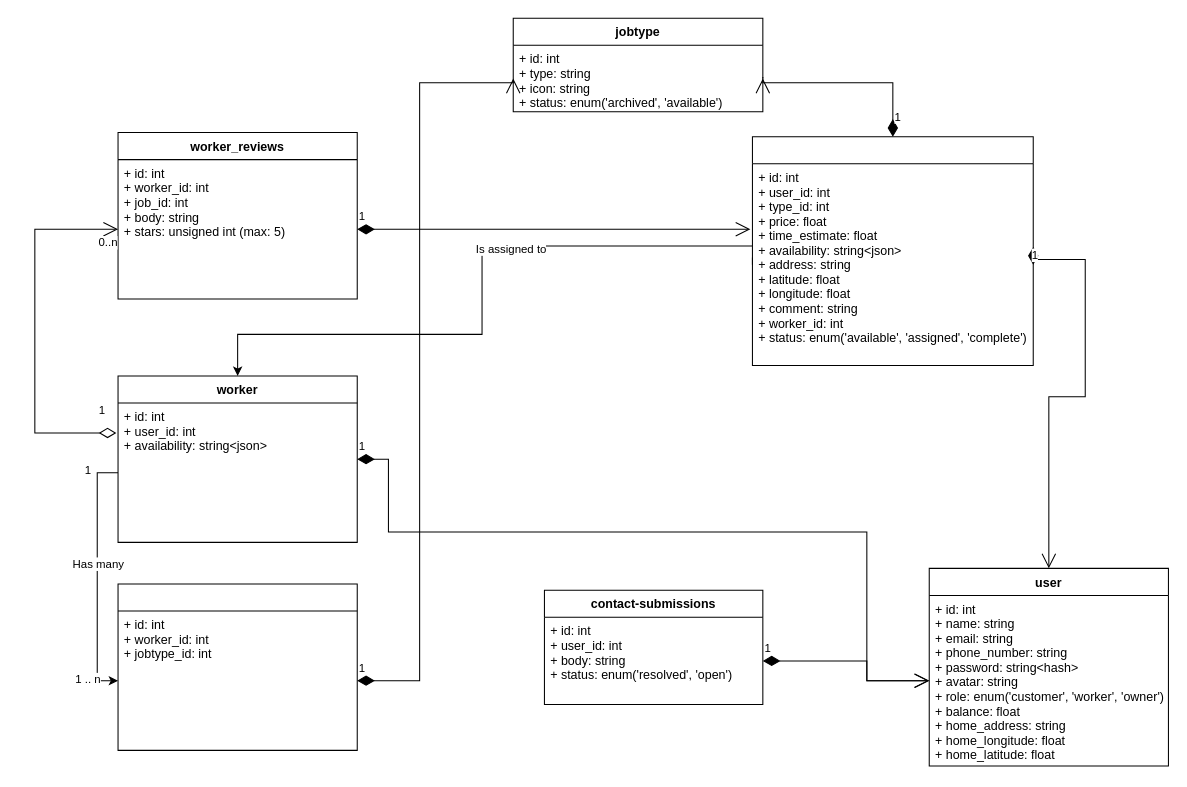
Image size: 1187x787. Some labels were removed from this diagram. The box of each missing label's shape, as (x1, y1, x2, y2) in pixels:
job: (751, 136, 1033, 366)
worker_jobtypes: (117, 583, 357, 750)
